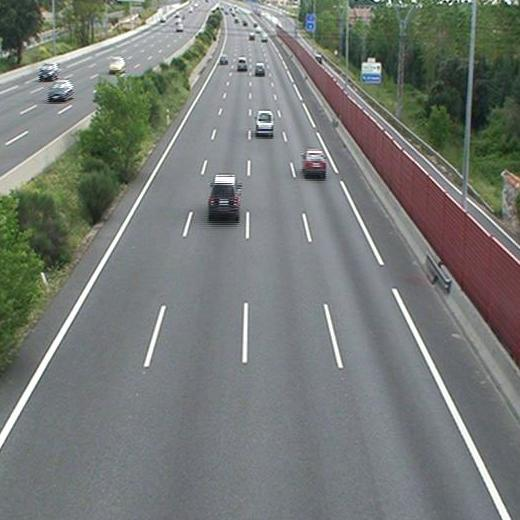car: (208, 176, 239, 213), (303, 151, 325, 175), (256, 111, 274, 135), (236, 59, 247, 71), (255, 64, 266, 75), (219, 56, 230, 66)
